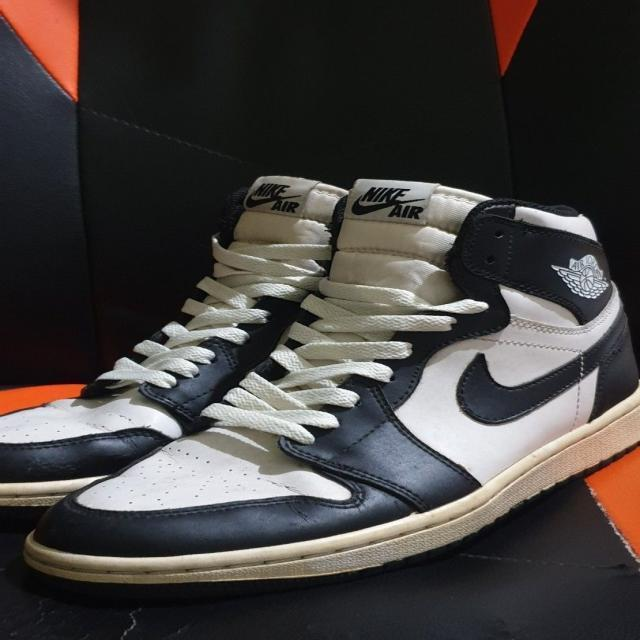nike fake jordan 1: (27, 180, 640, 604), (0, 174, 403, 506)
